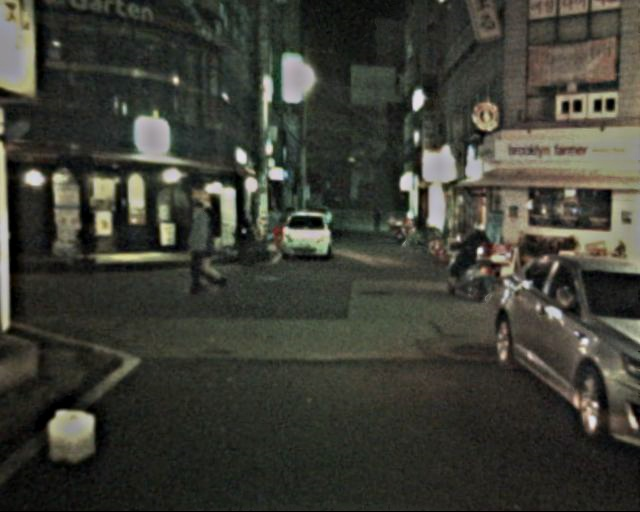person: (180, 201, 221, 297), (458, 221, 497, 308)
